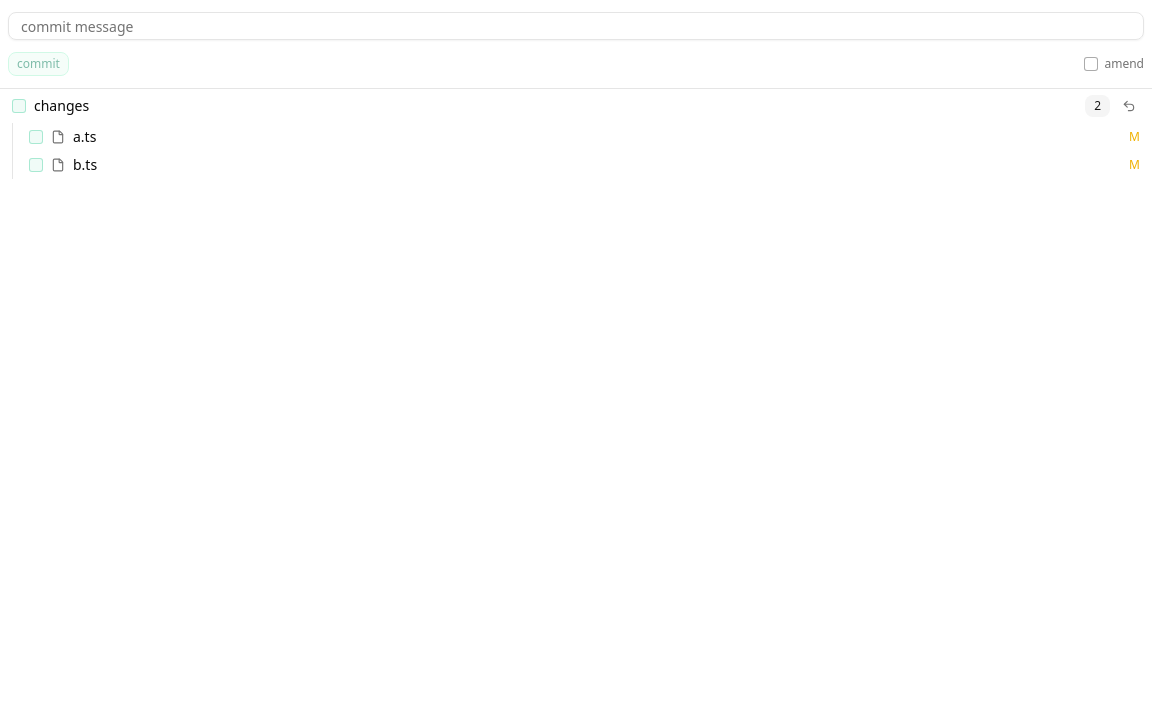
it: discard confirmation › discard all button opens confirmation dialog for all changes
The width and height of the screenshot is (1152, 720).
Click the button named "discard all changes". click: (1129, 106)
box: 1118,95 -> 1140,117
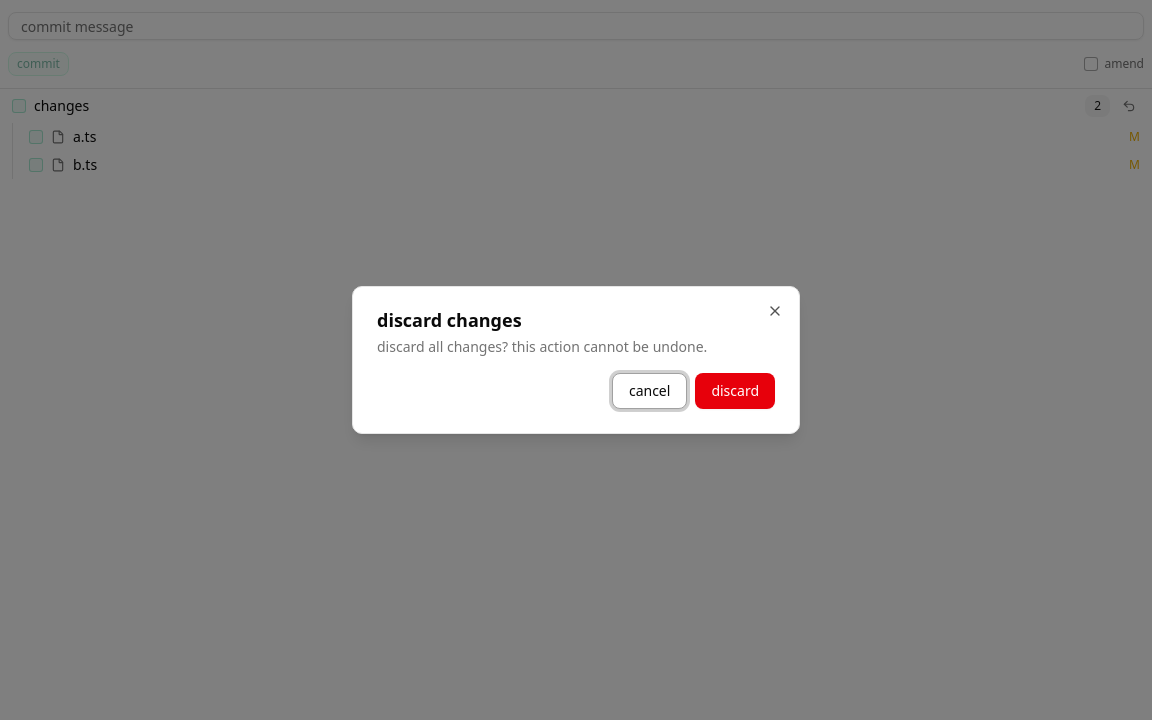
expect the text "discard all changes" is shown: met, box 377,337 -> 707,356
expect the text "this action cannot be undone" is shown: met, box 377,337 -> 707,356
